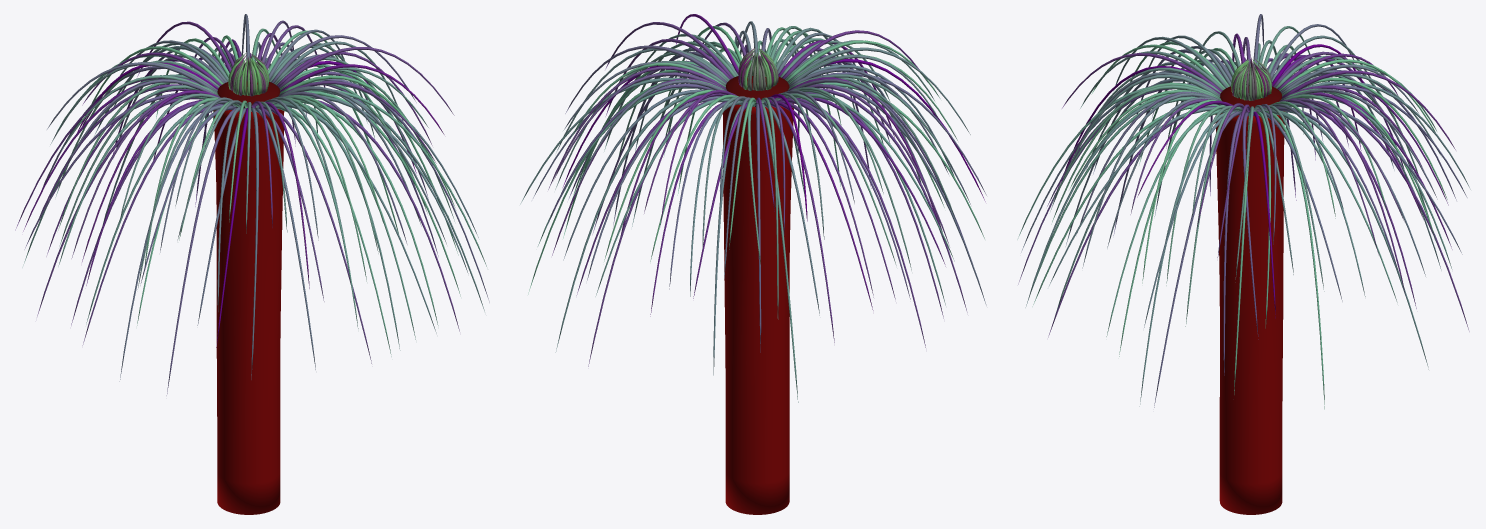
The model's file is anemone_tube.glb.
3 renders of one model, left to right at view 1: azimuth 30°, elevation 25°; view 2: azimuth 150°, elevation 25°; view 3: azimuth 270°, elevation 25°, orthographic. The views are drawn at different scales.
Visible parts, largest first — view 1: anemone_tube; view 2: anemone_tube; view 3: anemone_tube.
Boxes of the visible parts, x1,y1,x2,y2 form: anemone_tube: (15,14,489,514); anemone_tube: (520,14,986,514); anemone_tube: (1017,14,1470,514).
Bounding box in the file's own units: 0.2887 × 0.3136 × 0.2911.
